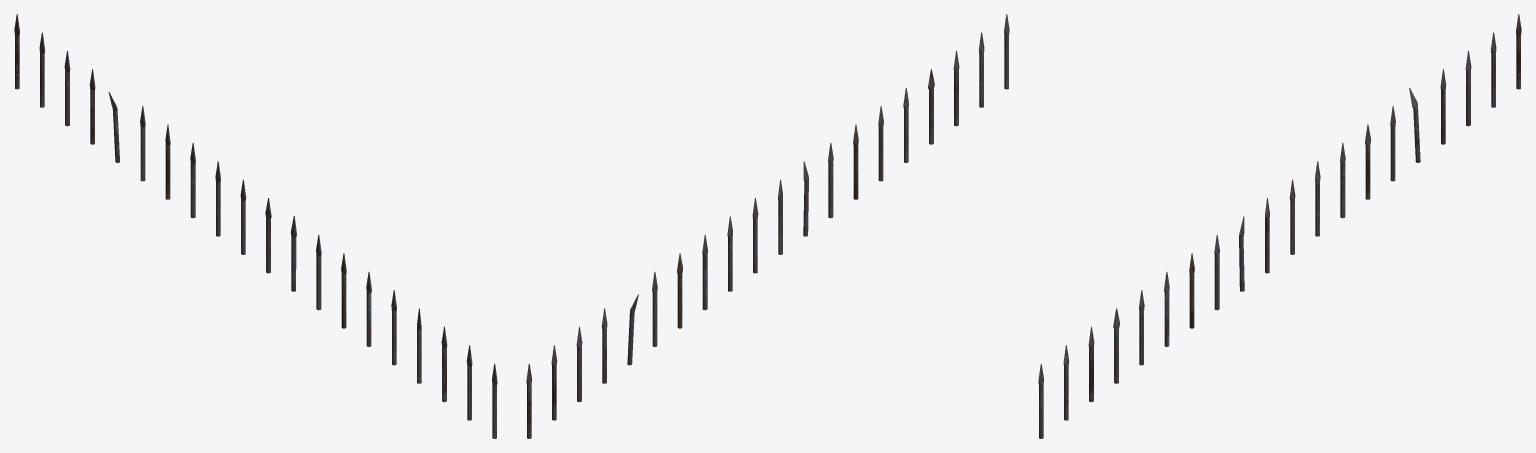
Rendered from SM_Spikes.FBX.
3 views of the same model, side by side, from view 1: azimuth 30°, elevation 25°; view 2: azimuth 150°, elevation 25°; view 3: azimuth 330°, elevation 25° (orthographic).
Parts seen in each view (by area): view 1: SM_Spikes_LOD0; view 2: SM_Spikes_LOD0; view 3: SM_Spikes_LOD0.
Boxes of the visible parts, left/top/right/bottom form: SM_Spikes_LOD0: left=14, top=14, right=497, bottom=438; SM_Spikes_LOD0: left=526, top=14, right=1009, bottom=438; SM_Spikes_LOD0: left=1038, top=14, right=1521, bottom=438.
Size of what is drawn, in the model's own units: 5.11 by 32.56 by 384.
